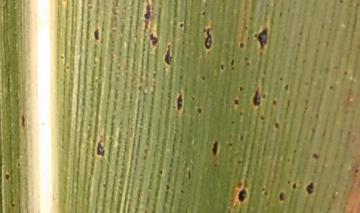tarspot: (253, 26, 271, 49), (201, 23, 214, 51), (92, 138, 109, 159), (162, 41, 175, 66), (146, 30, 161, 47), (251, 86, 262, 109), (235, 187, 250, 203), (209, 139, 221, 158), (175, 90, 184, 114), (277, 188, 287, 206), (305, 180, 315, 197), (93, 26, 102, 43), (311, 150, 321, 165), (232, 96, 243, 109), (272, 118, 281, 133), (289, 181, 300, 191), (4, 170, 12, 183), (194, 105, 204, 115), (176, 22, 188, 30), (229, 56, 236, 68), (237, 41, 246, 50), (271, 97, 278, 106)
